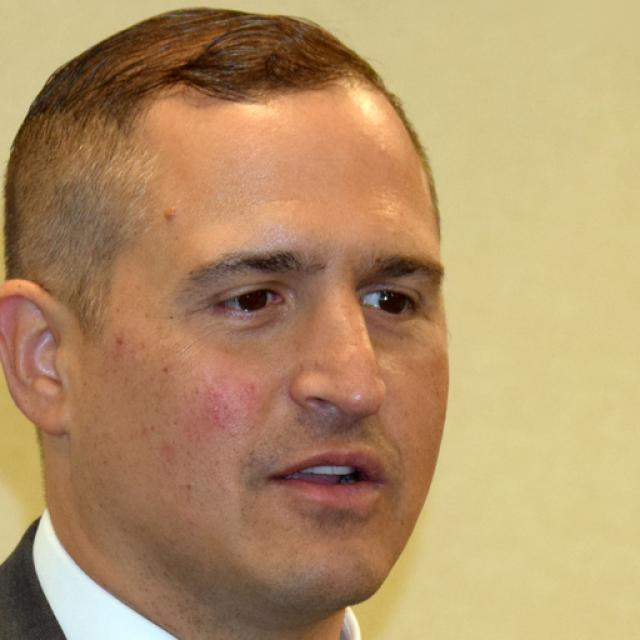Acne: (163, 206, 179, 222)
